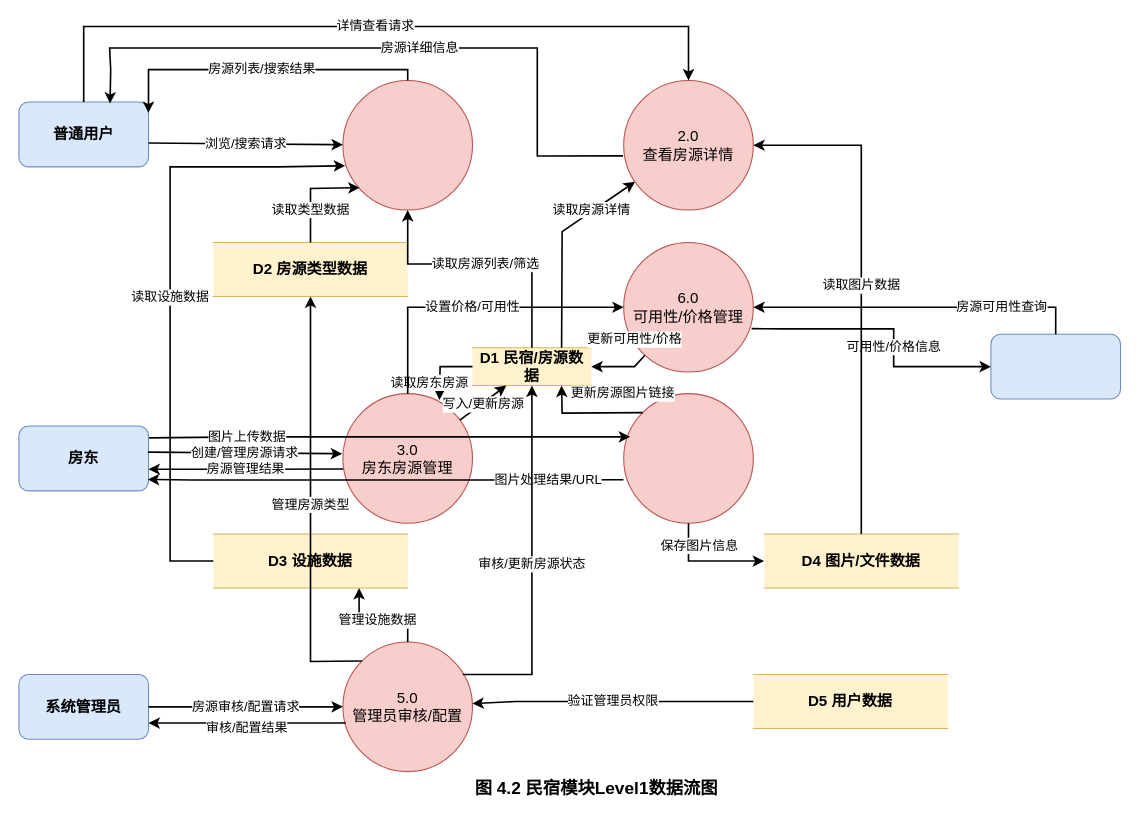
Some shapes in this 1139 by 823 pixel diagram are drawn without their labels. Here are the shapes that lost their labels. From the top down, the centre of each, then its label:
the point at 407,144: 1.0 浏览/搜索房源
the point at 1055,366: 订单模块
the point at 688,458: 4.0 图片处理
